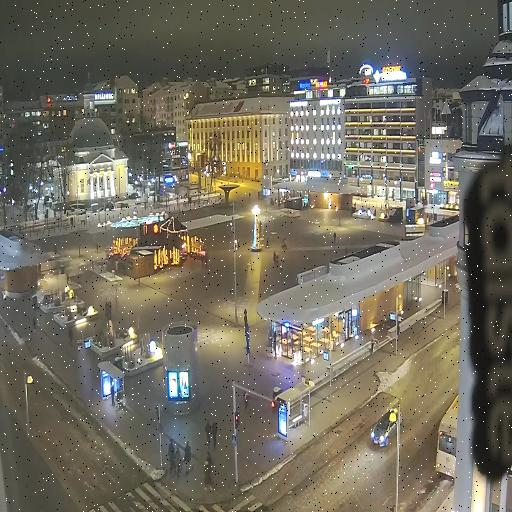Bus: (435, 392, 458, 478)
